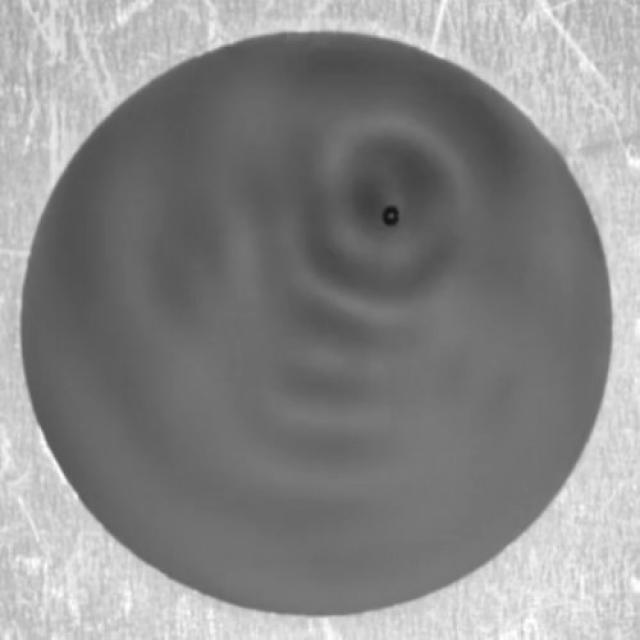droplet: (381, 202, 402, 230)
